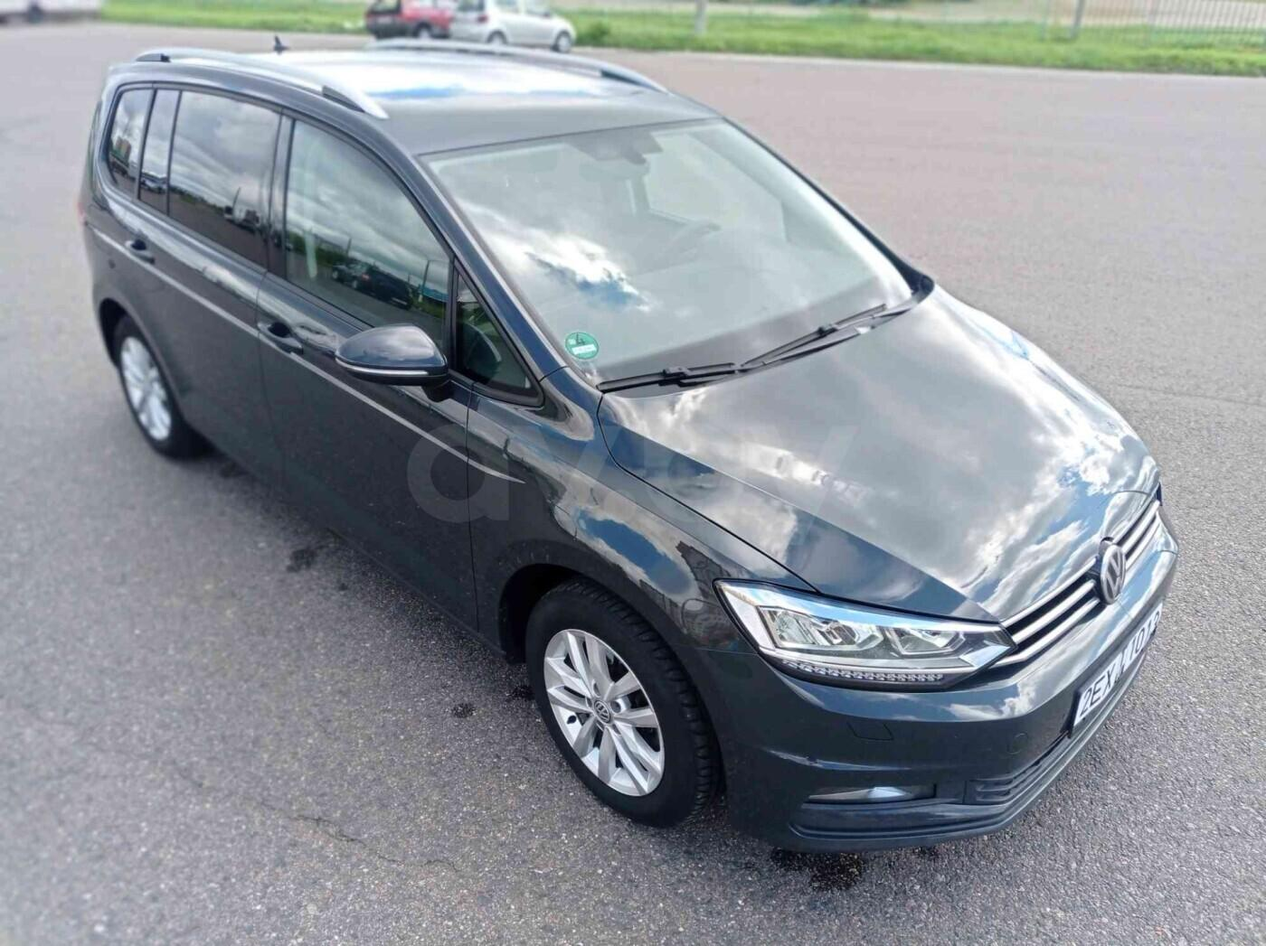Touran_2015: (76, 40, 1182, 864)
